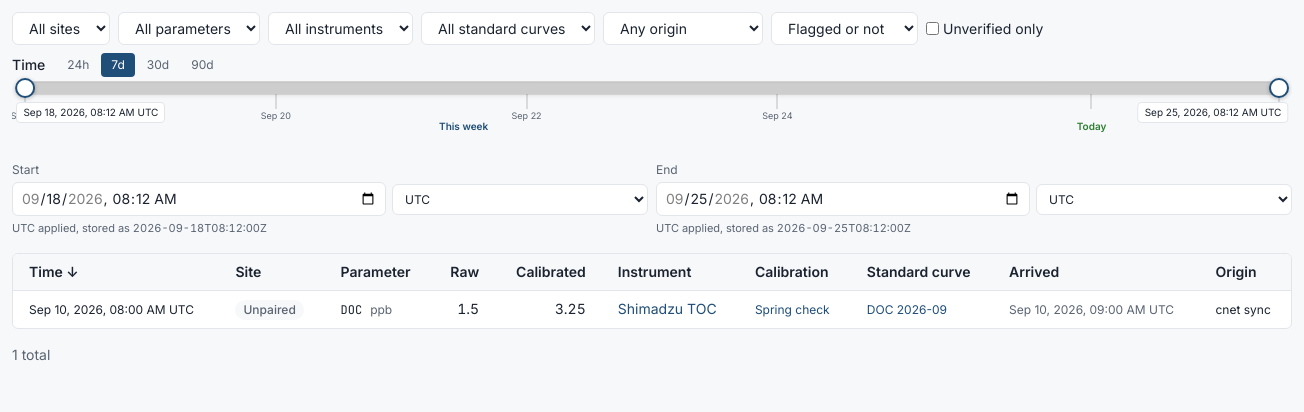
Scenario: ReadingsList › says an unpaired reading has no record yet
Click the text "1.5".
click(468, 308)  # box [457,300,479,317]
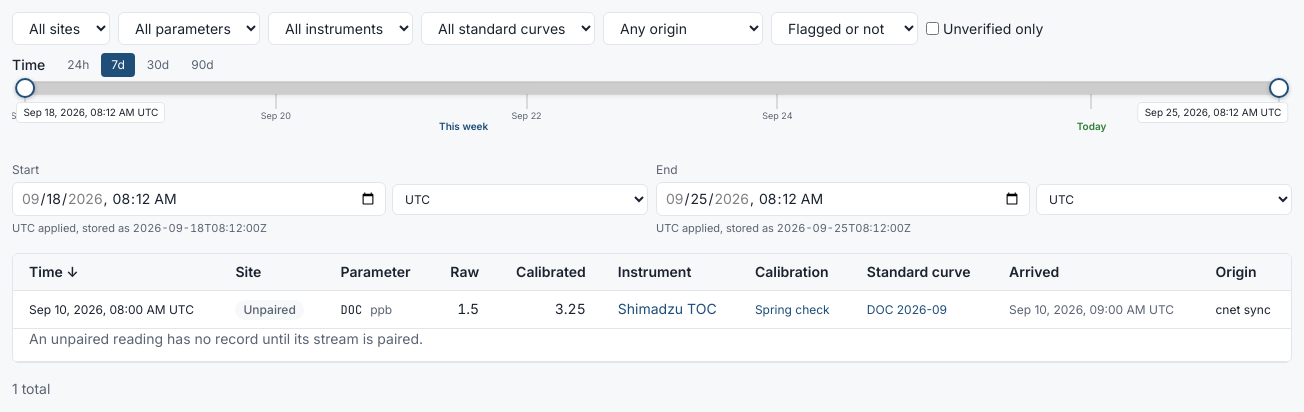
Expected: the text "An unpaired reading has no record until its stream is paired." is shown, [29,330,423,346]
